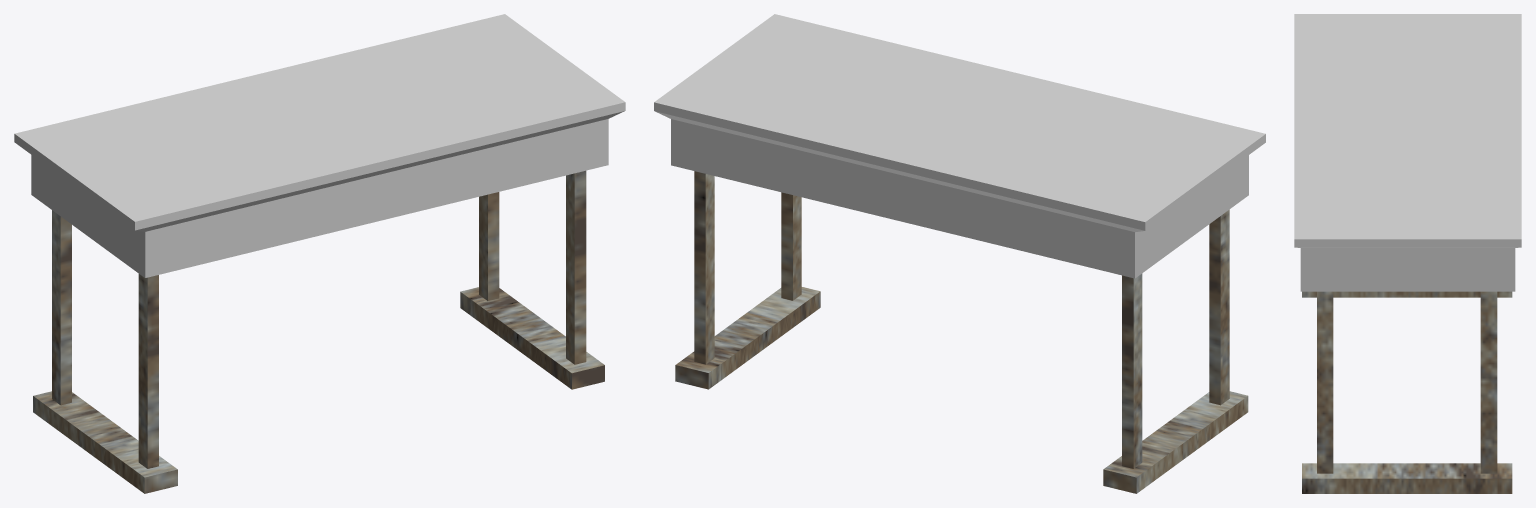
File: Desk.fbx
3 views of the same model, side by side, from view 1: azimuth 30°, elevation 25°; view 2: azimuth 150°, elevation 25°; view 3: azimuth 270°, elevation 25° (orthographic). The views are drawn at different scales.
Visible parts, largest first — view 1: Plane.045; view 2: Plane.045; view 3: Plane.045.
Part boxes in pixels (x1,y1,x2,y2): Plane.045: (14,14,625,493); Plane.045: (654,14,1265,493); Plane.045: (1294,14,1521,493).
Size of the model in its own units: 251 by 136 by 107.
